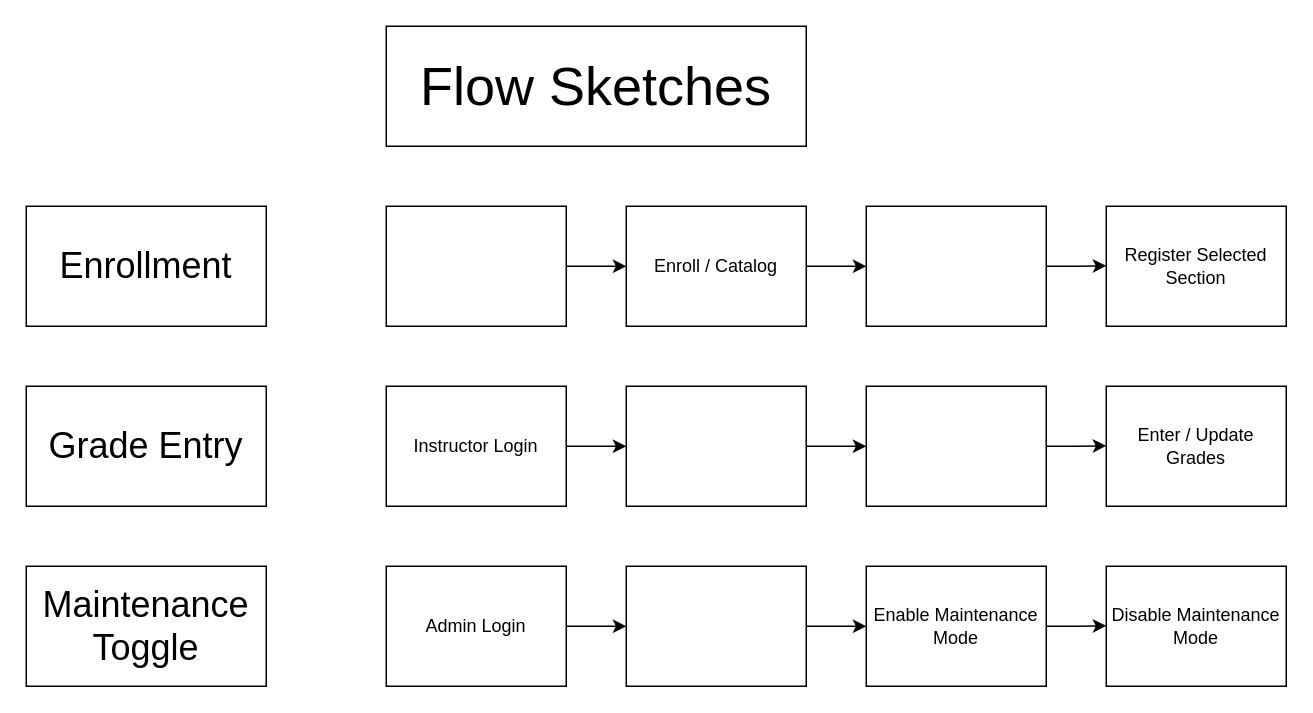
Image size: 1313x713. Some labels were removed from this diagram. The centre of each missing label's shape, as x and y in pixels:
"My Sections" goes at (715,445).
"Select Course and Section" goes at (955,265).
"Select Section and Student" goes at (955,445).
"Student Login" goes at (475,265).
"System Settings" goes at (715,625).
